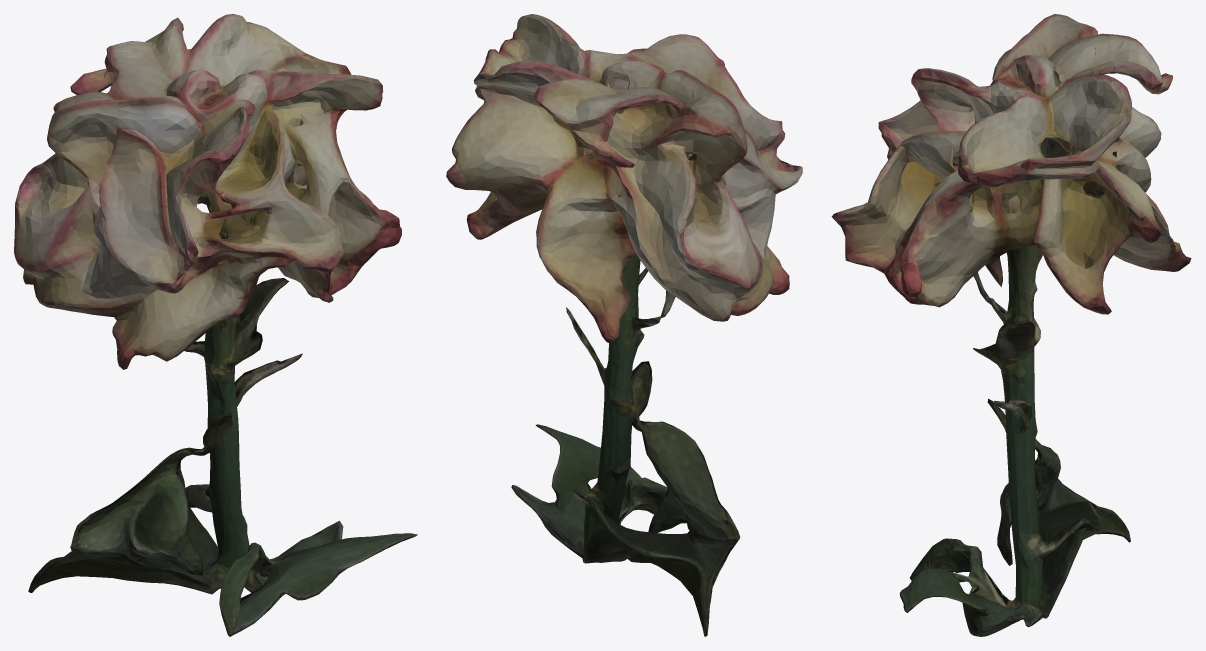
The picture shows the model from 3 angles, left to right: view 1: azimuth 30°, elevation 25°; view 2: azimuth 150°, elevation 25°; view 3: azimuth 270°, elevation 25°; orthographic projection. The views are drawn at different scales.
Parts seen in each view (by area): view 1: world; view 2: world; view 3: world.
Part boxes in pixels (<box>): world: <box>14,14,417,636</box>; world: <box>446,14,802,636</box>; world: <box>831,14,1191,636</box>.
Size of the model in its own units: 0.5763 by 0.9498 by 0.5586.
1 material, 1 textured.
